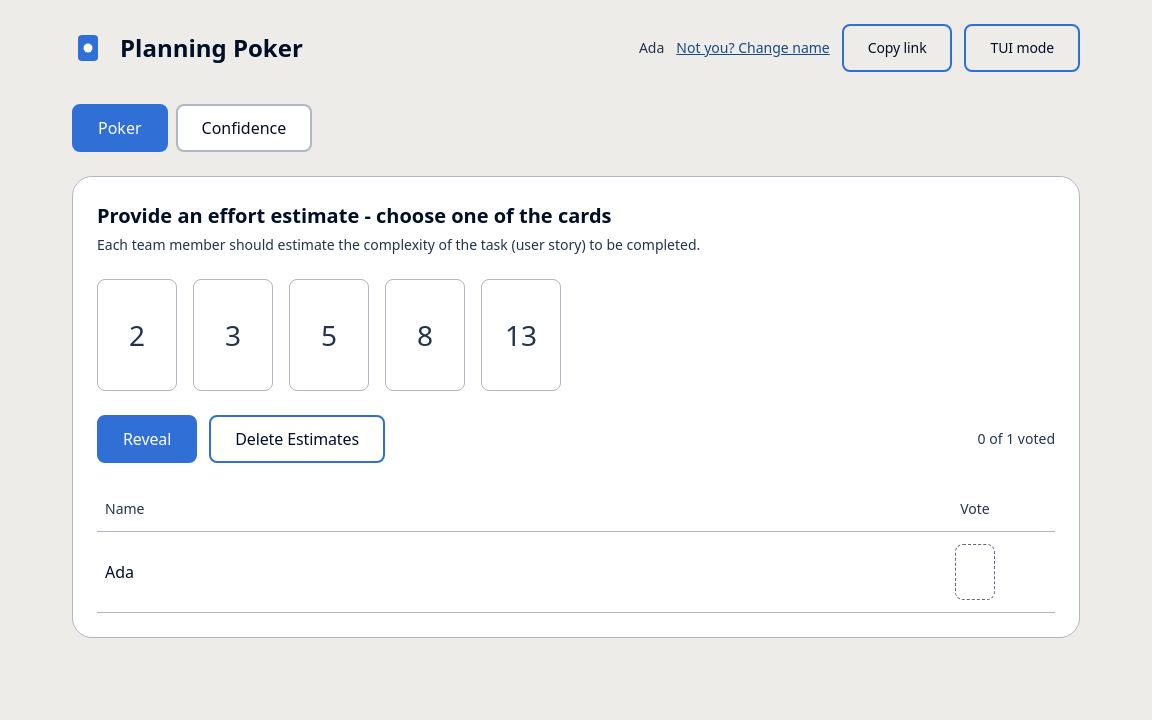
Test: theme toggle › starts in GUI mode and switches the whole page to TUI and back
Click the button "TUI mode" at (1022, 48), box [964,24,1080,72]
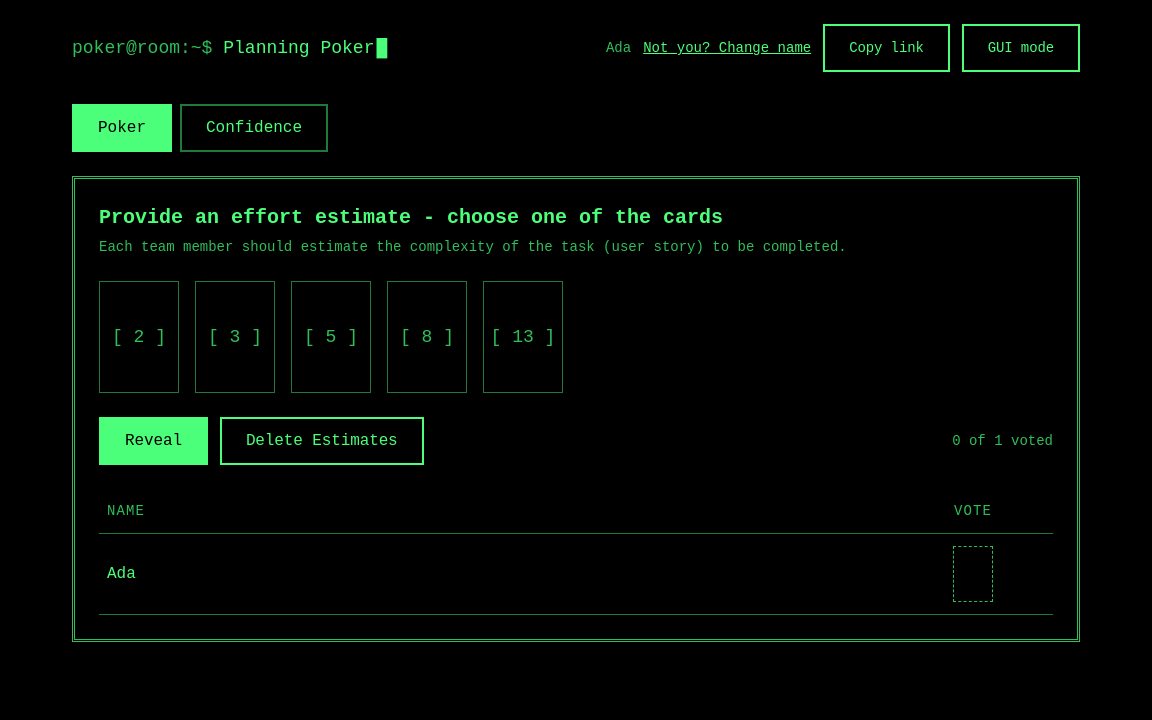
Now the button "TUI mode" is gone
Click the button "GUI mode" at (1021, 48), box [962,24,1080,72]
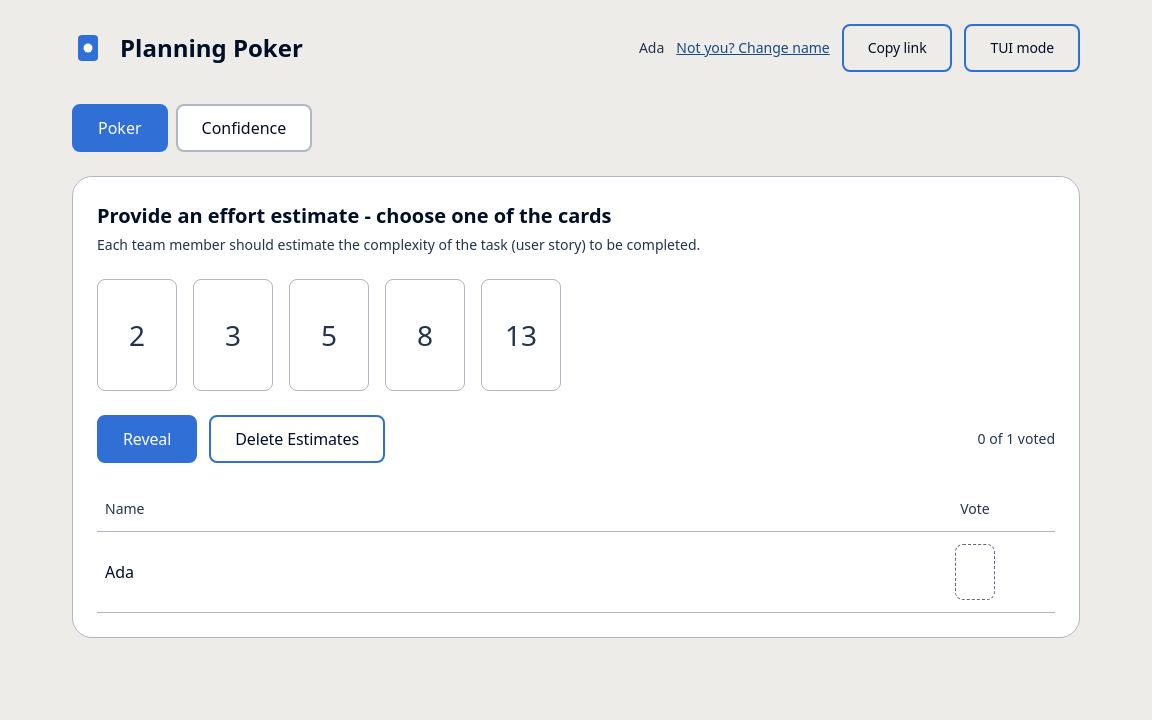
Now the button "TUI mode" is shown, box [964,24,1080,72]
